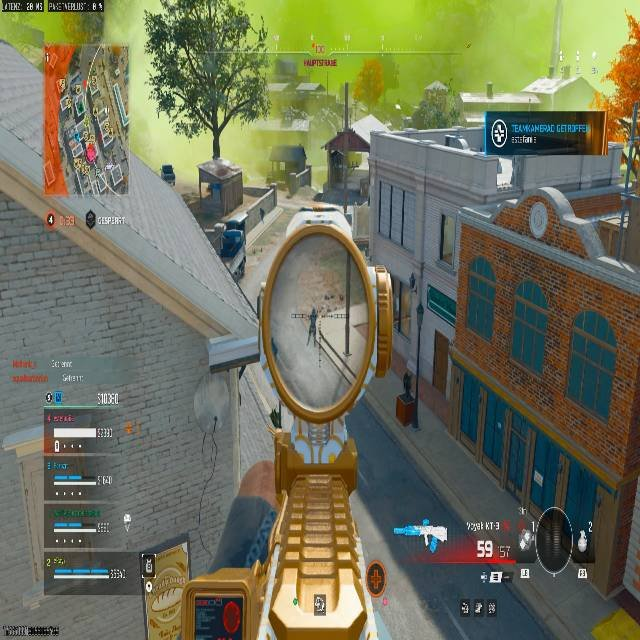player: (186, 137, 419, 437), (305, 307, 320, 347)
